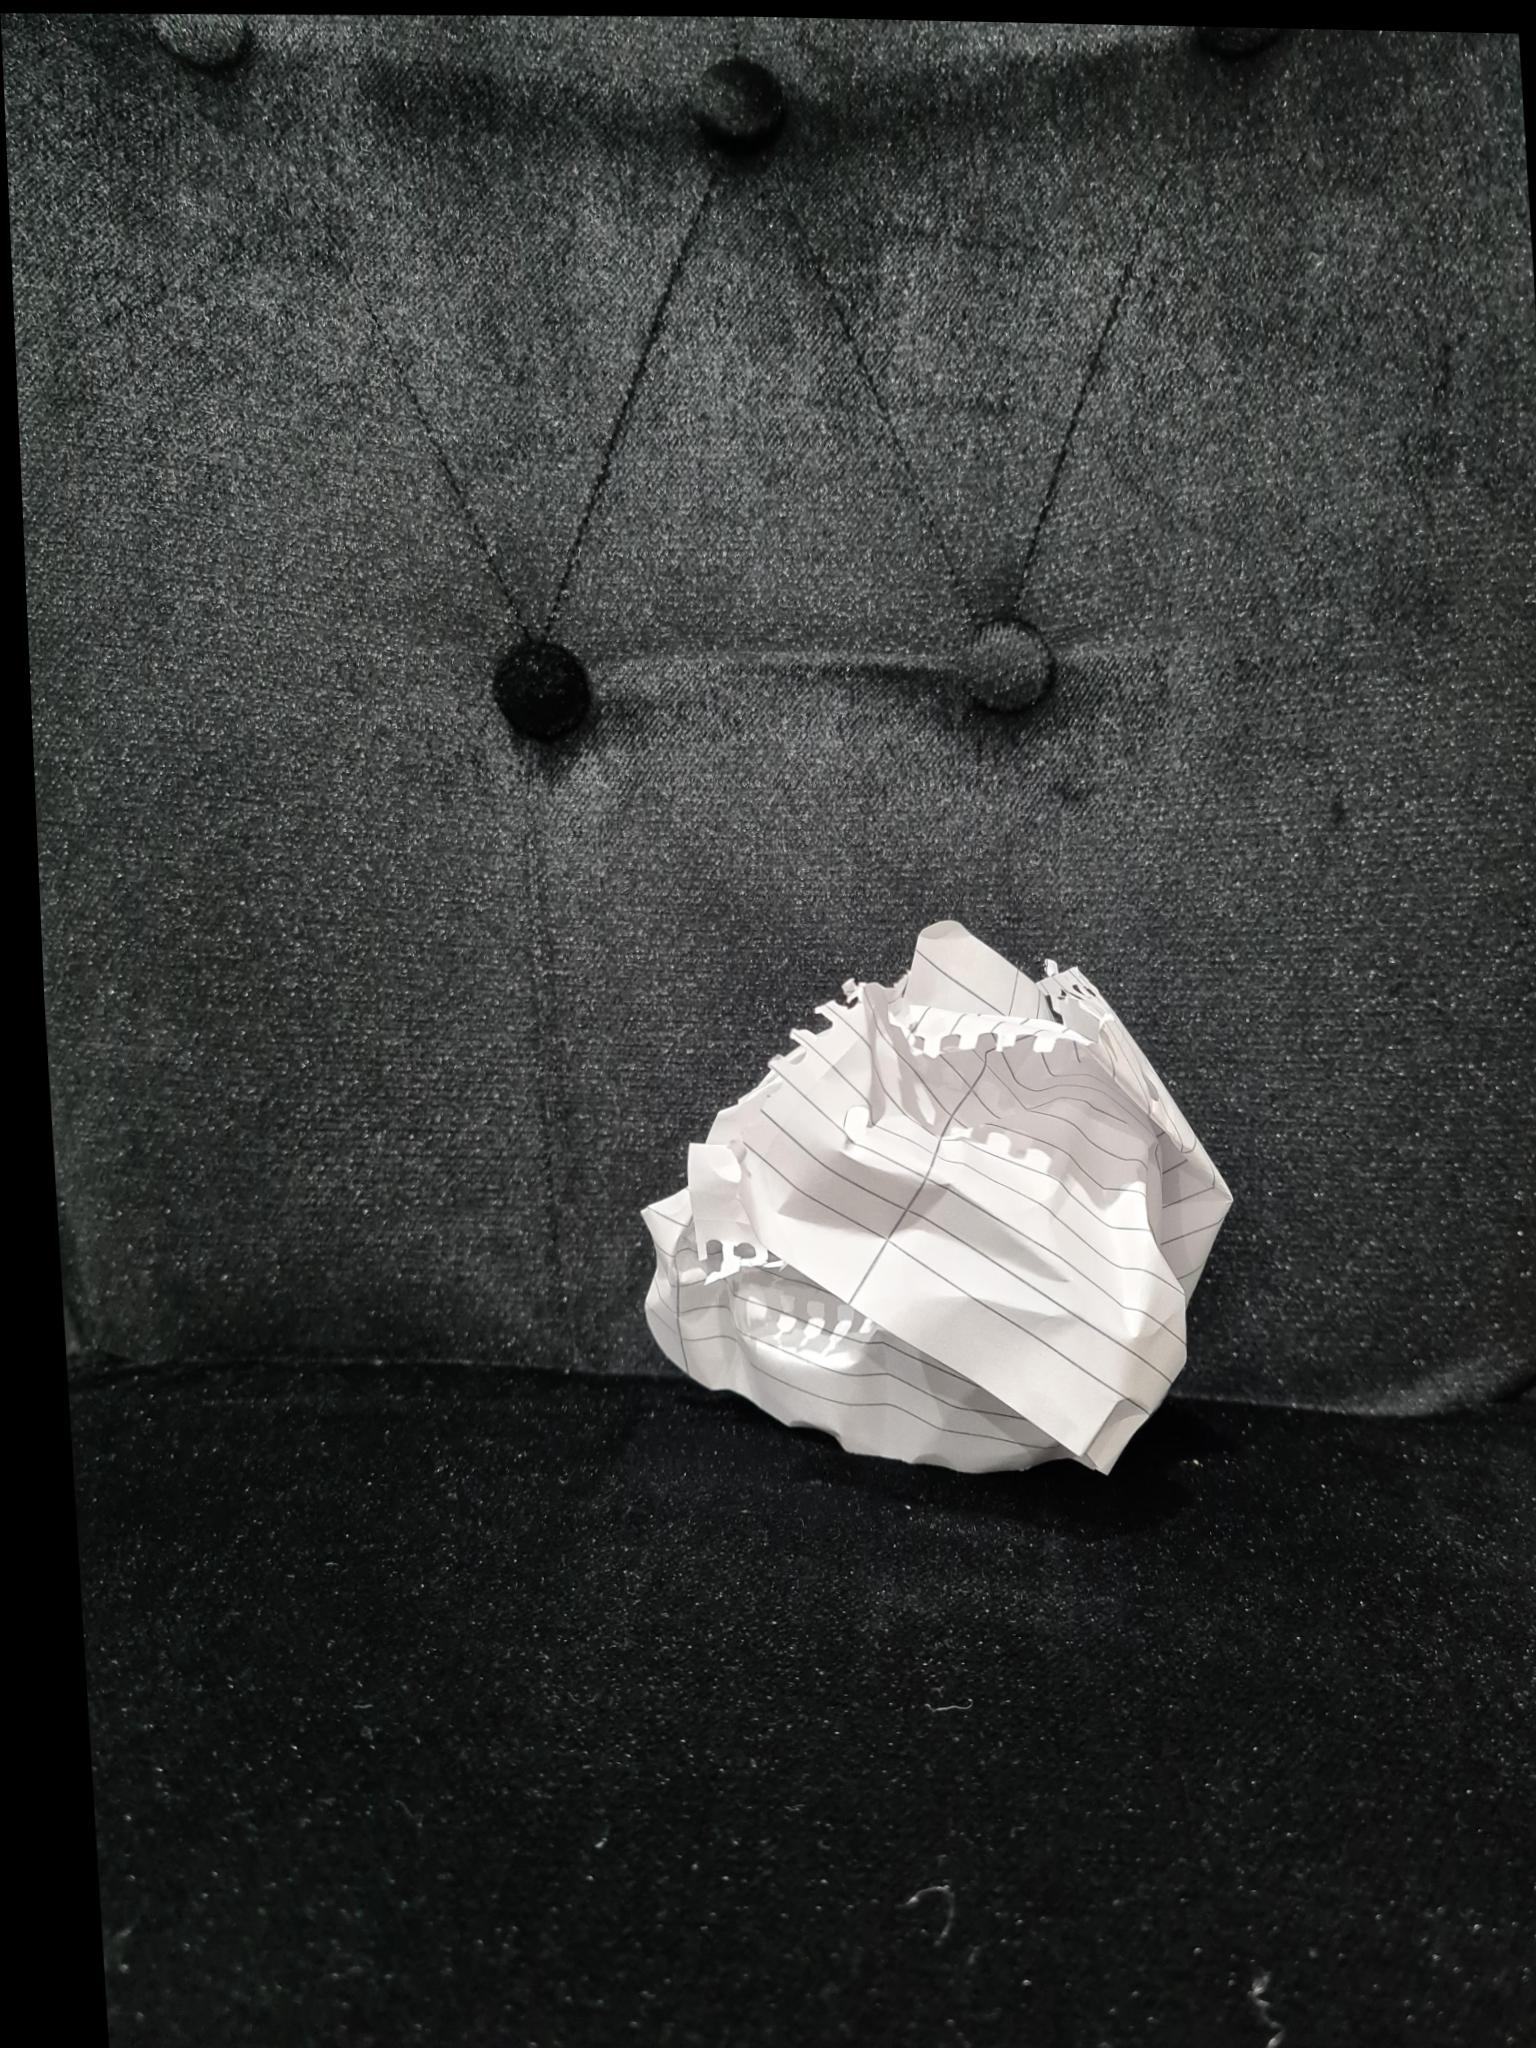paper: (613, 916, 1238, 1493)
